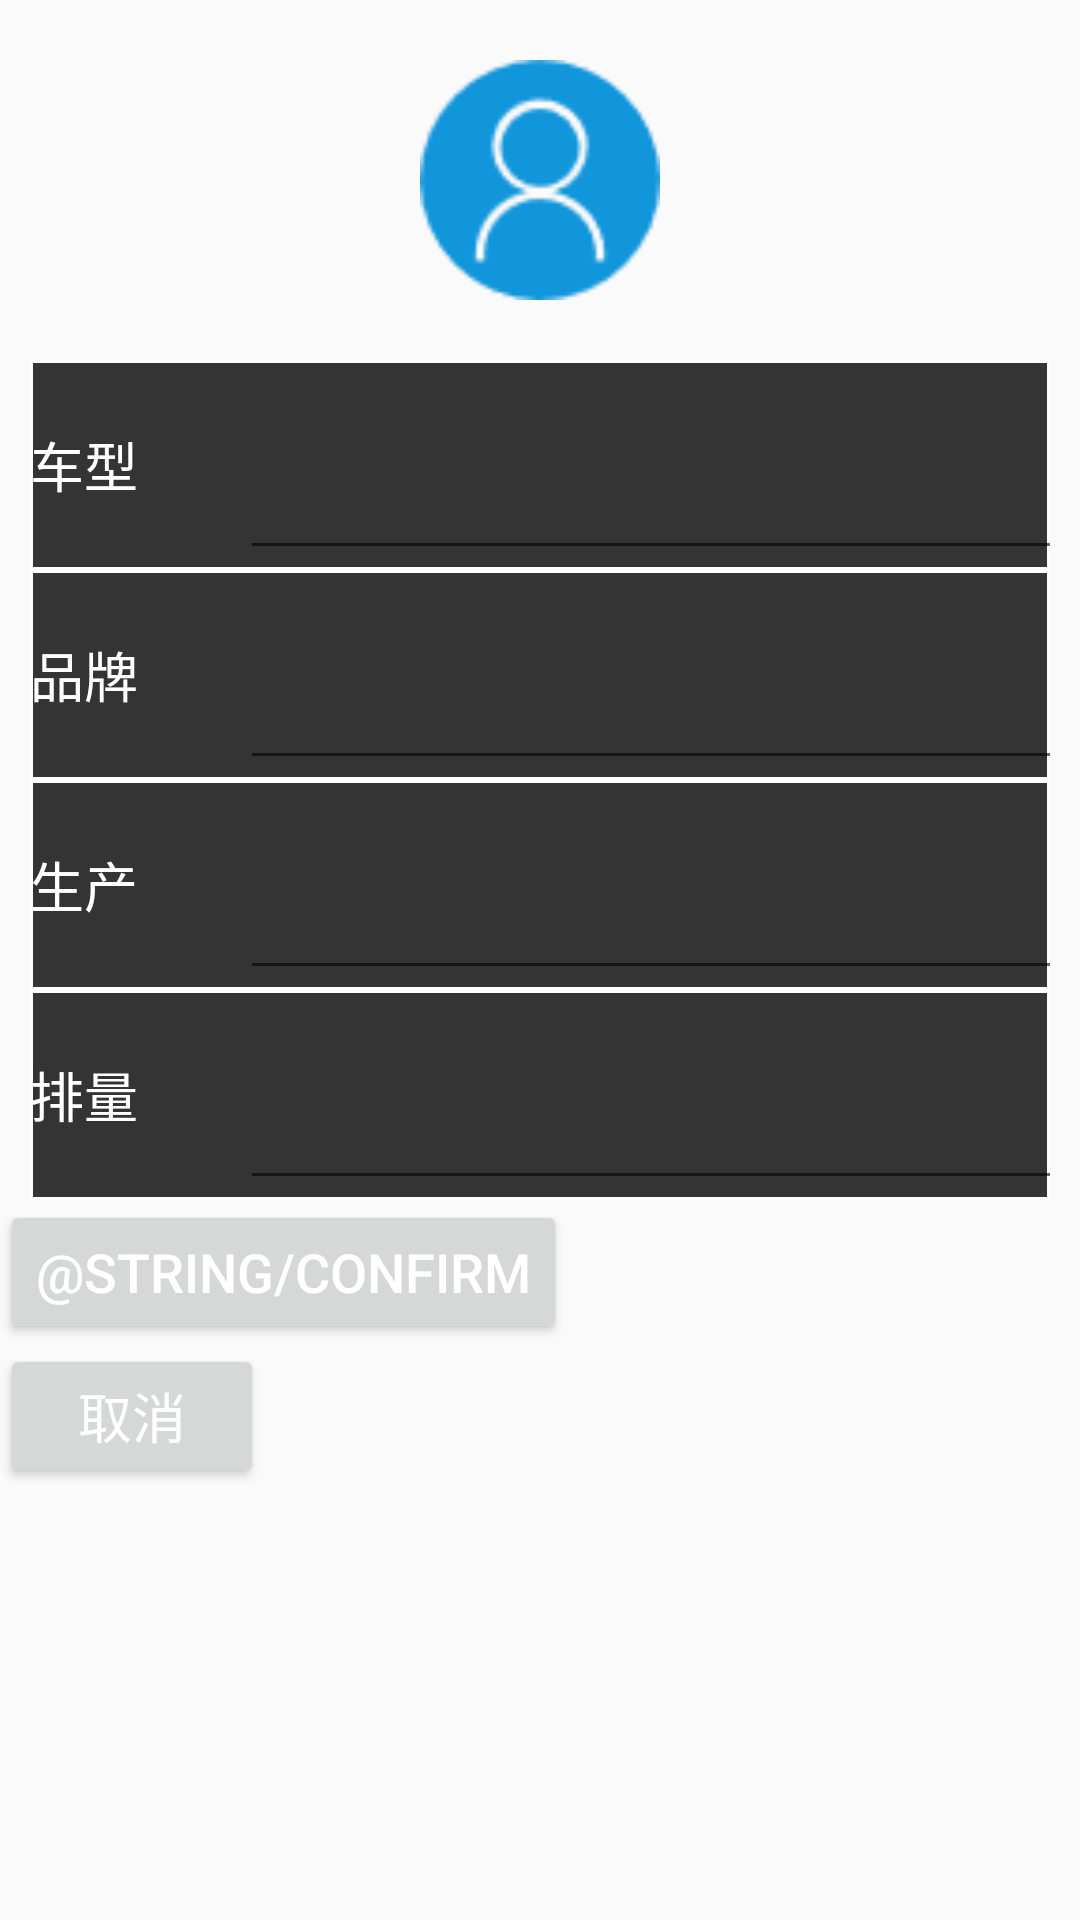

Point at icon controls on the screen. Image size 1080×1920, points as point (x, y).
user: point (540, 180)
